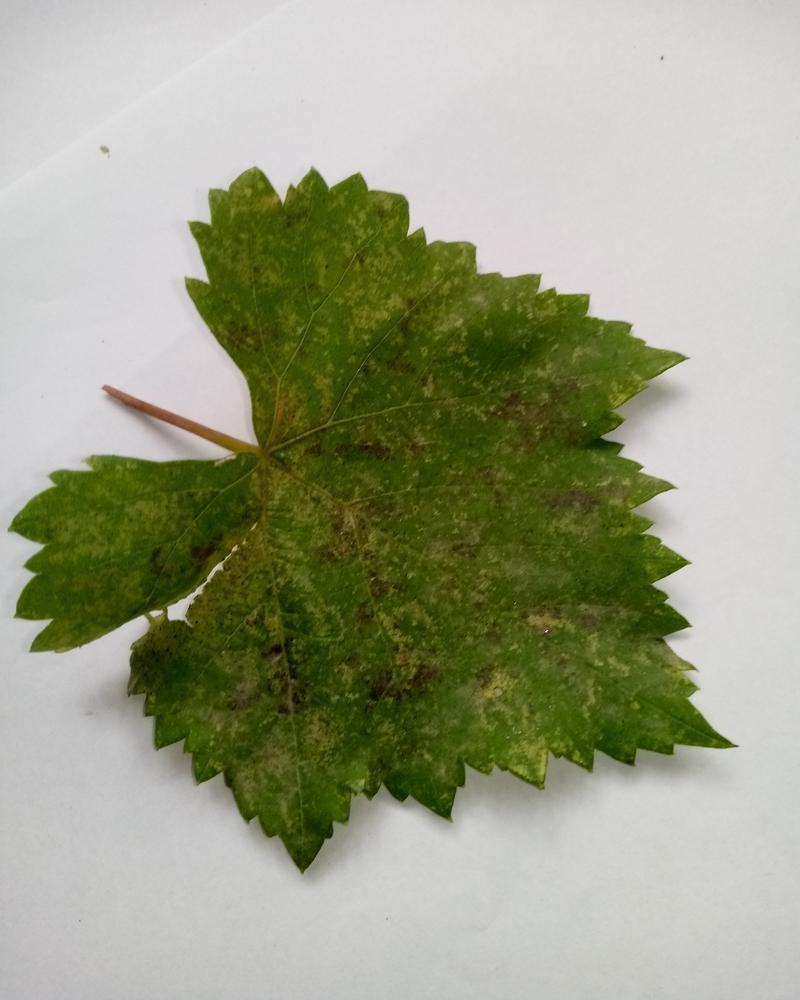Powdery-Mildew: (423, 645, 535, 782), (309, 477, 404, 598), (533, 319, 642, 409), (320, 237, 418, 335)
